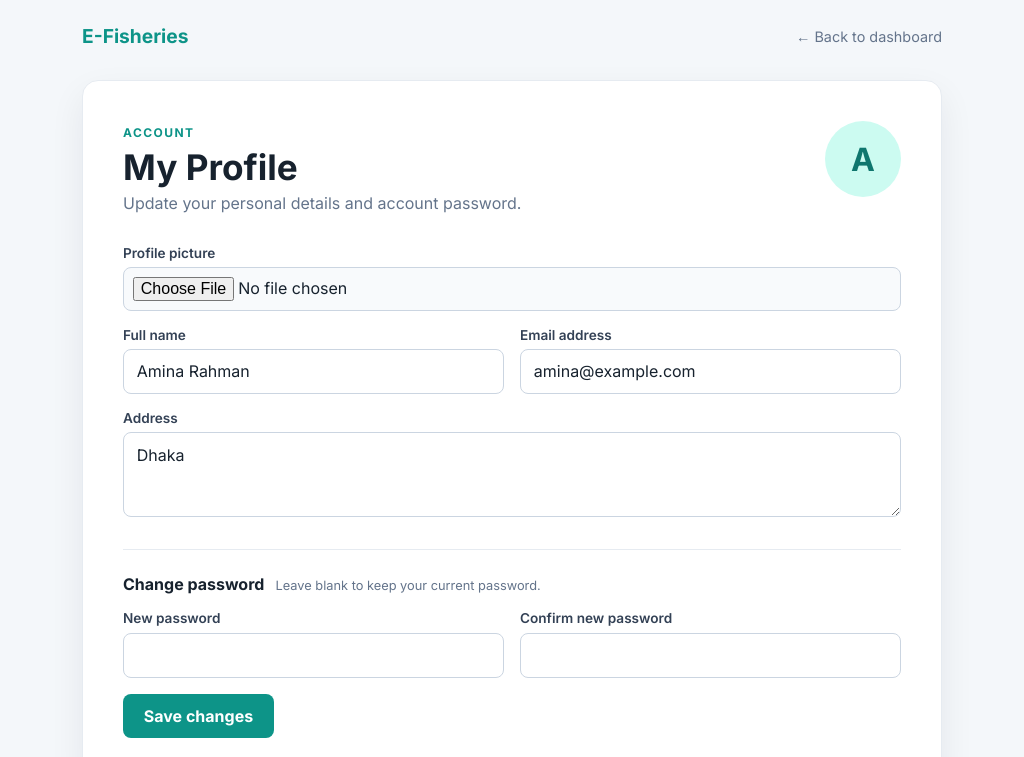
Test: profile integration flow › shows an error when profile saving fails
The width and height of the screenshot is (1024, 757).
Click the button "Save changes" at point(198, 716), box [123,694,274,738]
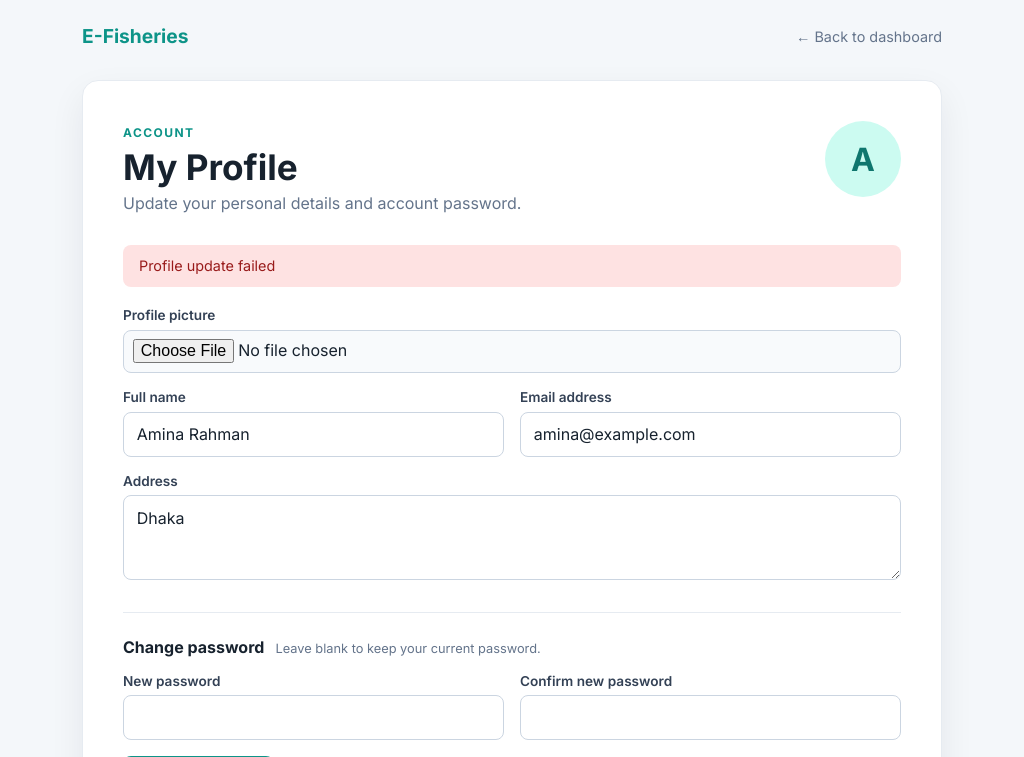
Expected: the message reads "Profile update failed", [139,257,275,274]
